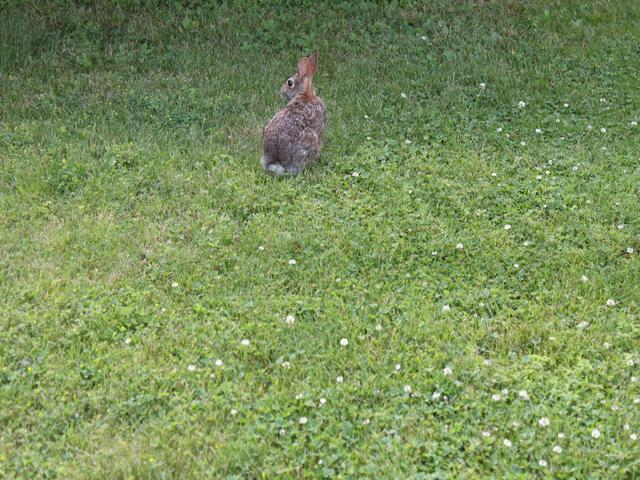rabbit: (243, 42, 347, 175)
